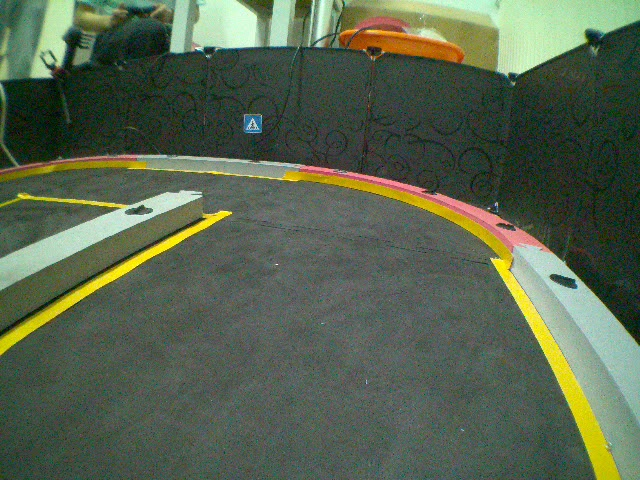crossing: (243, 114, 261, 132)
